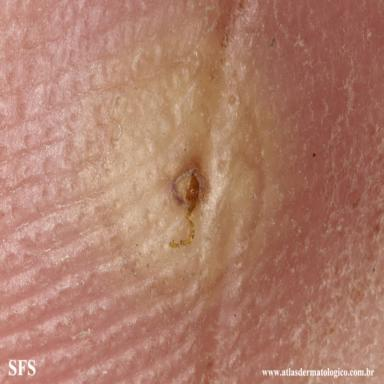Tungiasis: (101, 60, 265, 288)
